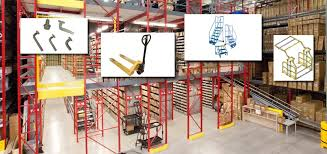Pallet Jack: (107, 33, 153, 79)
